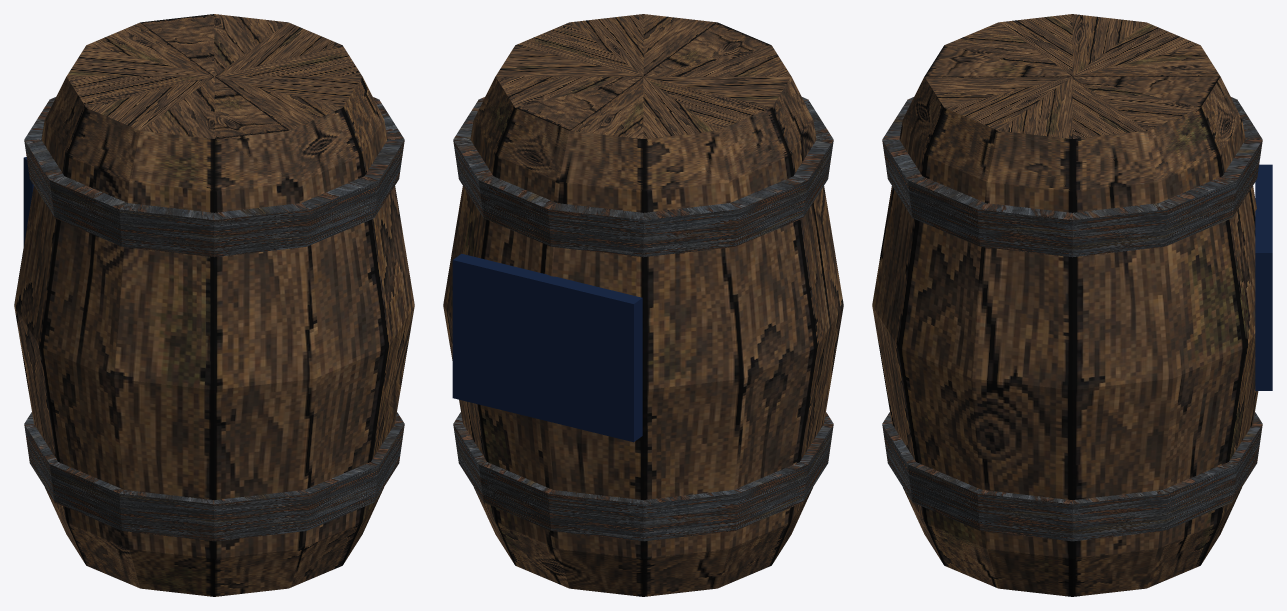
The model's file is C02_Barril_Conteudo_Cortado.obj.
3 renders of one model, left to right at view 1: azimuth 30°, elevation 25°; view 2: azimuth 150°, elevation 25°; view 3: azimuth 270°, elevation 25°, orthographic.
Visible parts, largest first — view 1: C02_Barril_Conteudo_Cortado; view 2: C02_Barril_Conteudo_Cortado; view 3: C02_Barril_Conteudo_Cortado.
Boxes of the visible parts, x1,y1,x2,y2 form: C02_Barril_Conteudo_Cortado: (14,14,414,596); C02_Barril_Conteudo_Cortado: (443,14,843,596); C02_Barril_Conteudo_Cortado: (872,14,1272,596).
Size of the model in its own units: 0.92 by 1.16 by 0.92.
3 materials, 2 textured.
